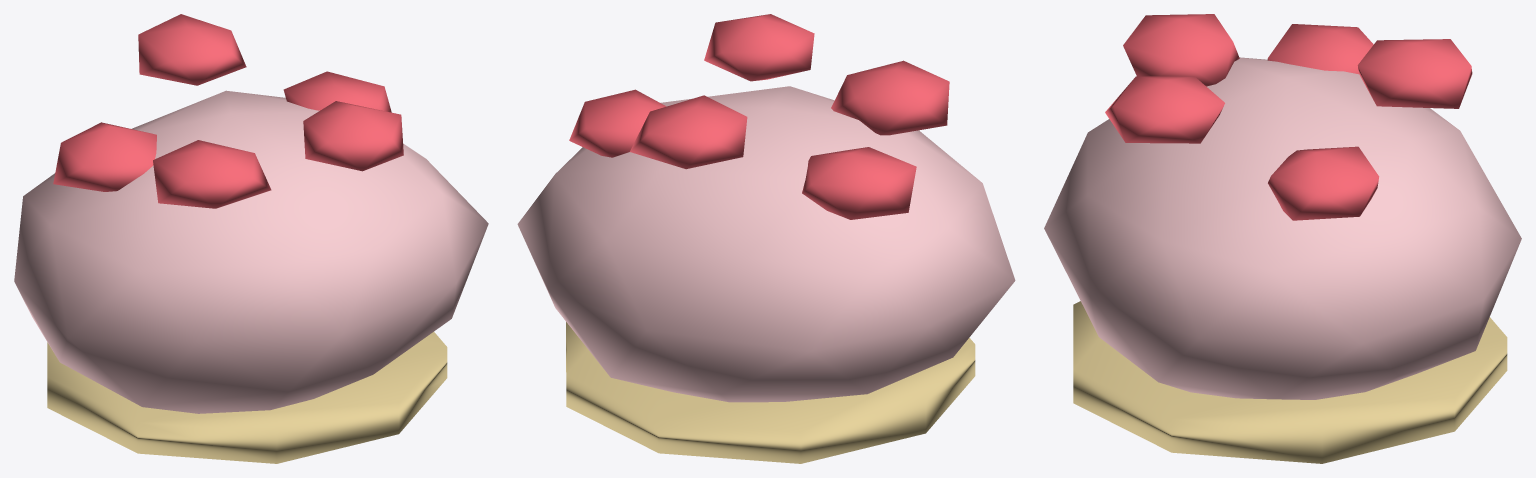
The model's file is coral-brain.glb.
The picture shows the model from 3 angles, left to right: view 1: azimuth 30°, elevation 25°; view 2: azimuth 150°, elevation 25°; view 3: azimuth 270°, elevation 25°; orthographic projection. The views are drawn at different scales.
Visible parts, largest first — view 1: coral_brain; view 2: coral_brain; view 3: coral_brain.
Part boxes in pixels (<box>): coral_brain: <box>14,14,488,463</box>; coral_brain: <box>517,14,1015,463</box>; coral_brain: <box>1044,14,1521,463</box>.
Size of the model in its own units: 1.76 by 1.25 by 1.6.
